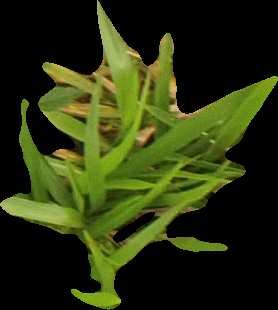grass: (1, 1, 275, 308)
